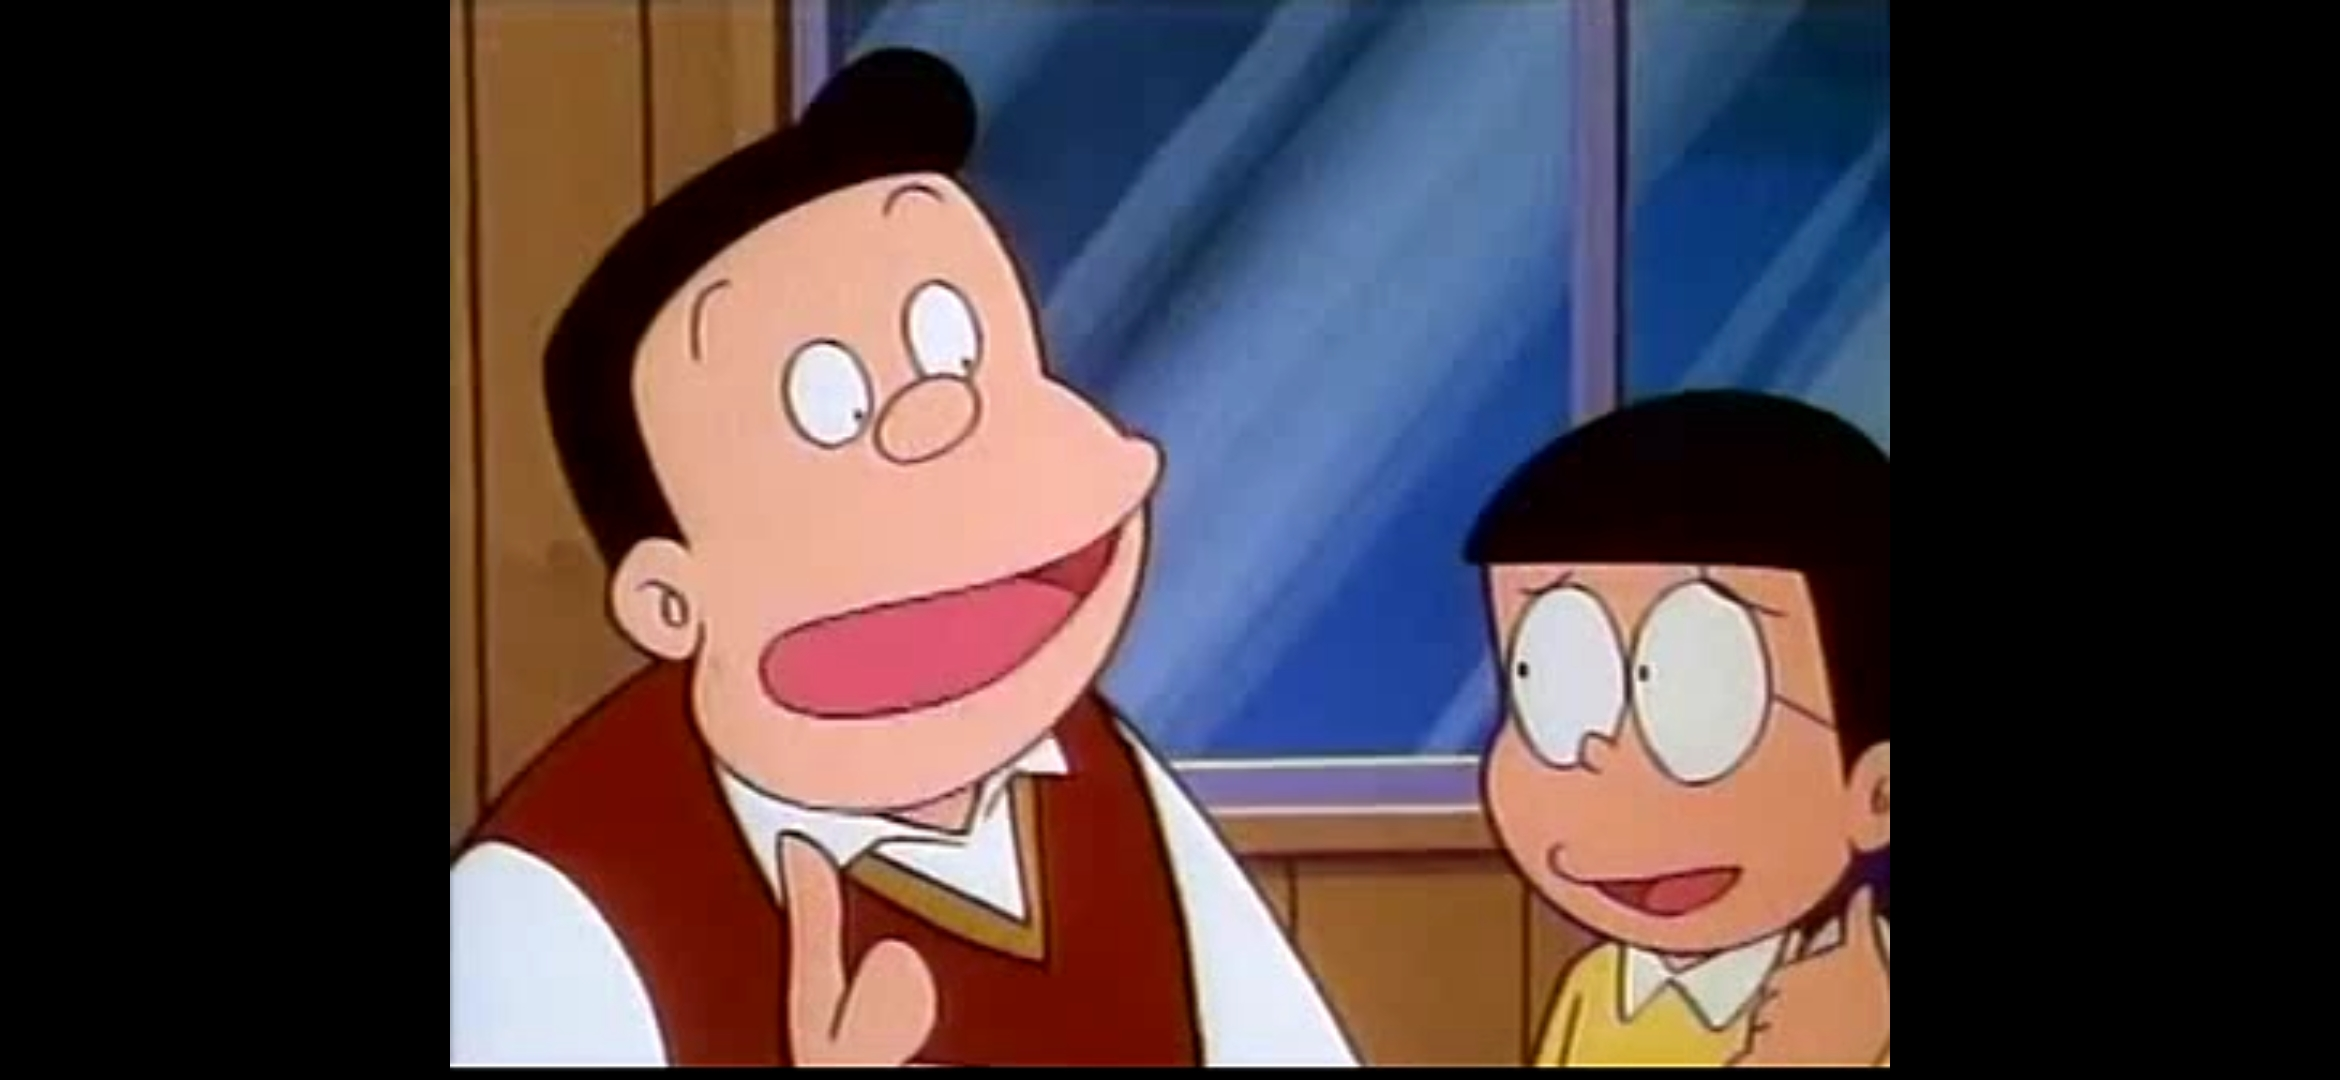Nobi: (1462, 388, 1889, 952)
